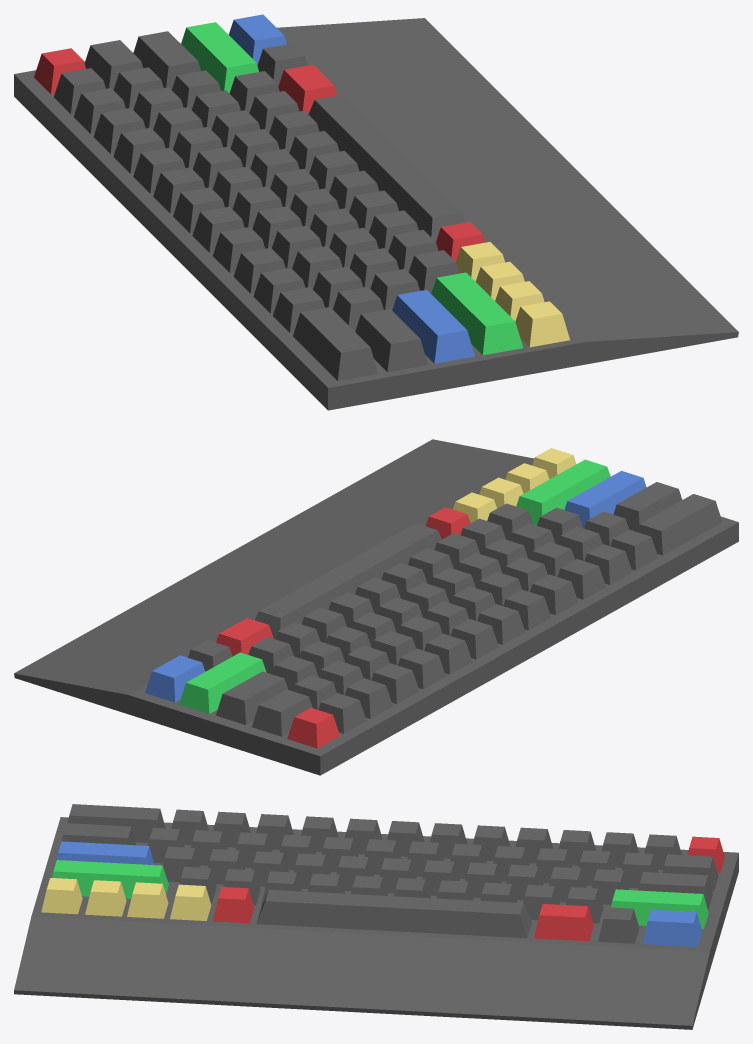
Rendered from keyboard.glb.
3 views of the same model, one above another, from view 1: azimuth 30°, elevation 25°; view 2: azimuth 150°, elevation 25°; view 3: azimuth 270°, elevation 25° (orthographic). The views are drawn at different scales.
Visible parts, largest first — view 1: keyboard; view 2: keyboard; view 3: keyboard.
Part boxes in pixels (x1,y1,x2,y2): keyboard: [14, 14, 738, 410]; keyboard: [14, 439, 738, 775]; keyboard: [14, 804, 738, 1029].
Bounding box in the file's own units: 0.1288 × 0.0125 × 0.2032.
